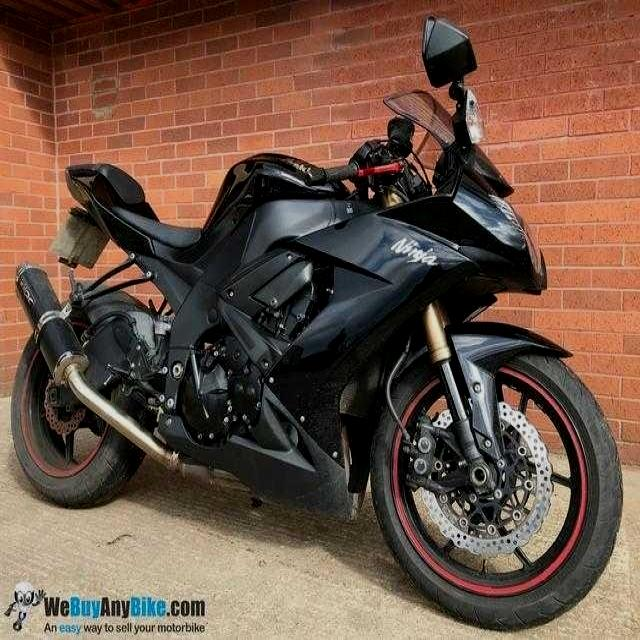Cycle: (24, 25, 601, 586)
